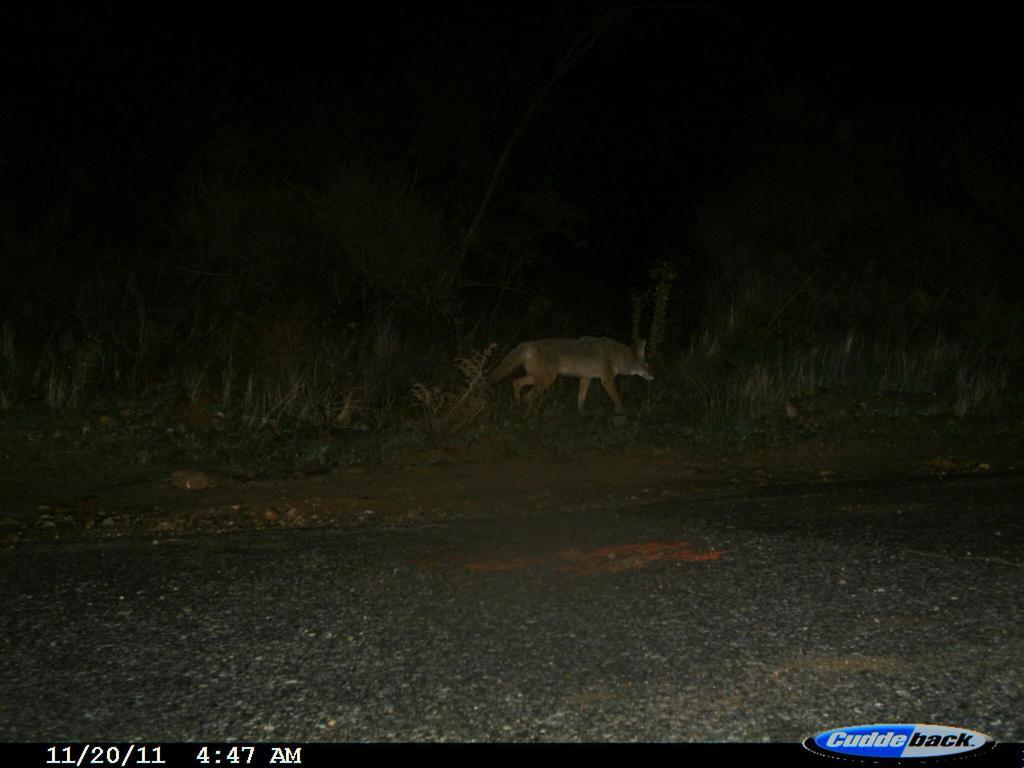coyote: (488, 326, 669, 422)
